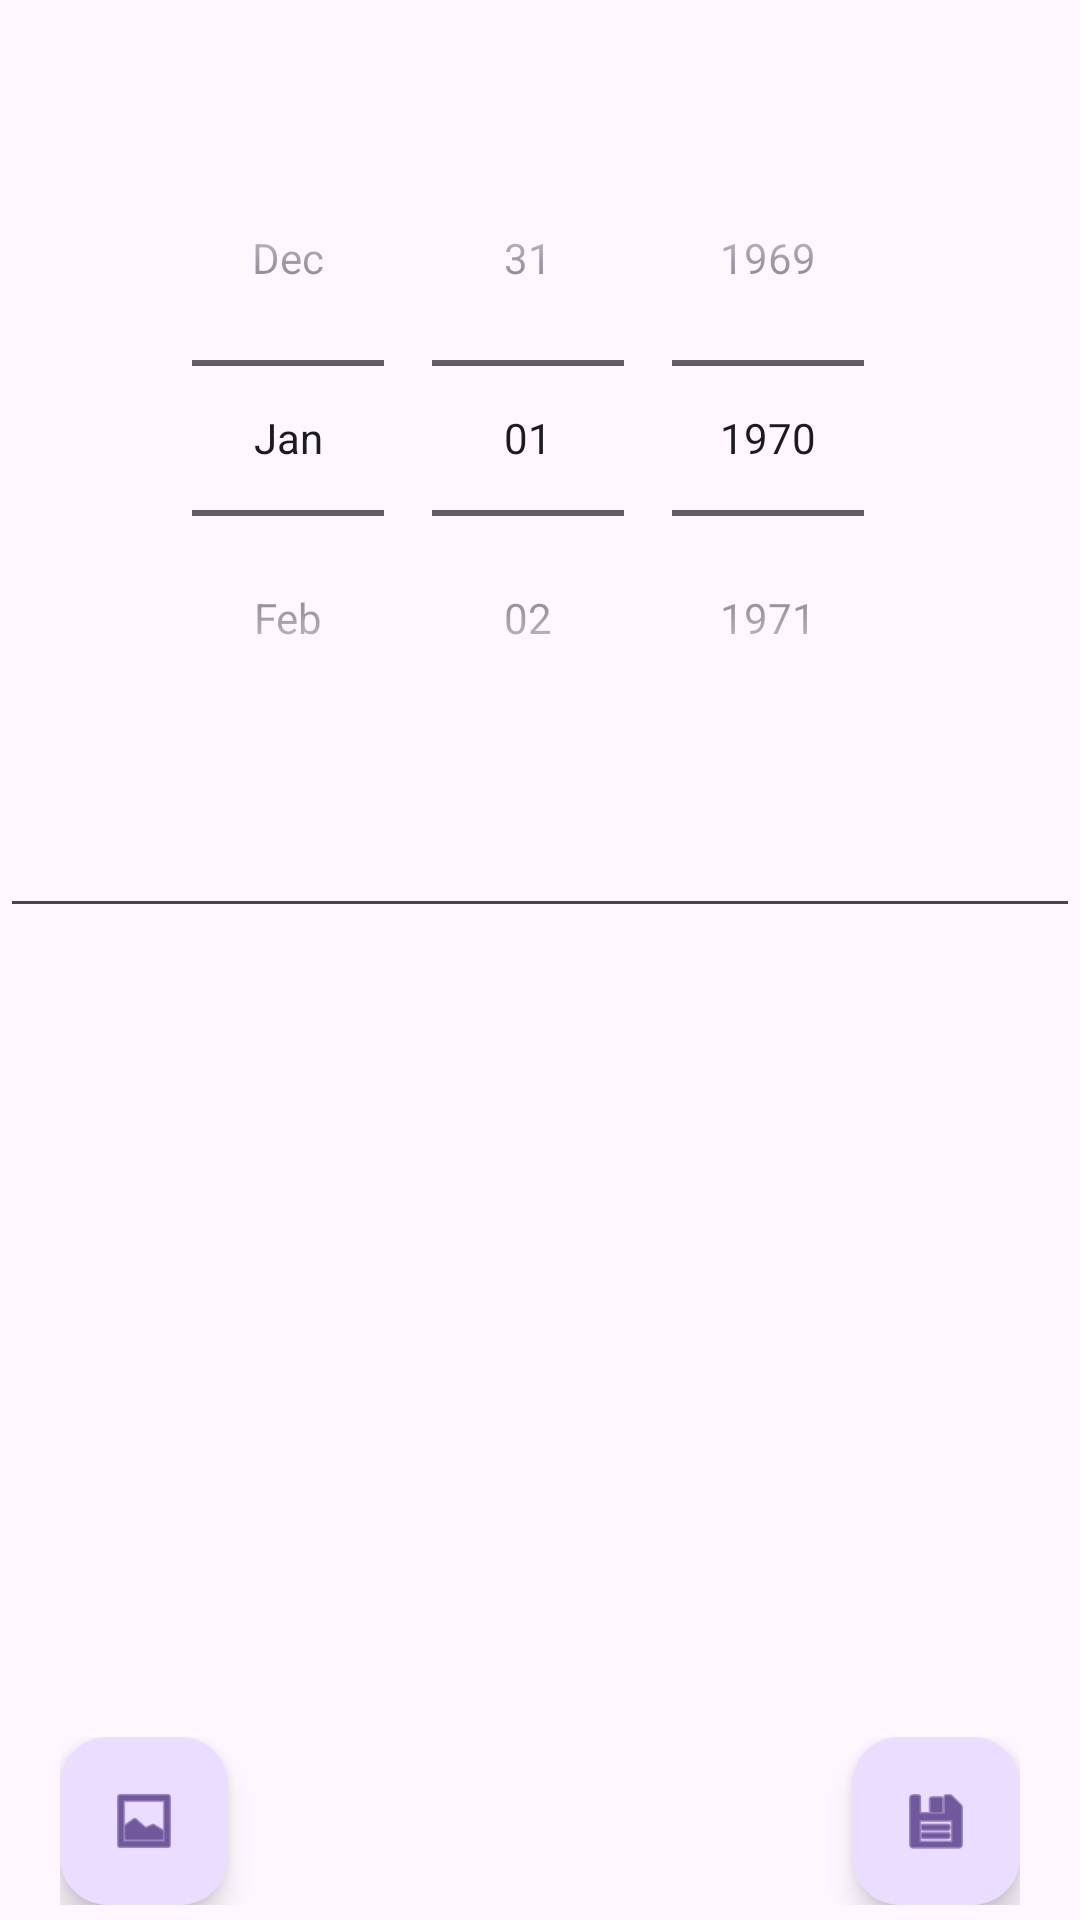

Screen size 1080 x 1920. Icon name, then its box in pixels as region(x1, y1, x2, y2):
gallery: region(60, 1737, 228, 1905)
save: region(852, 1737, 1020, 1905)
